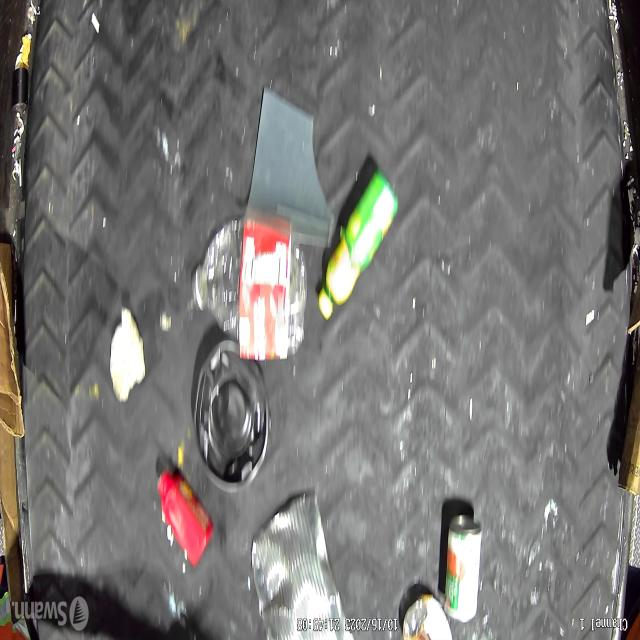can: (251, 491, 348, 640), (443, 513, 482, 624)
non_white_jug: (156, 471, 215, 567)
plastic_bottle: (190, 220, 308, 363)
